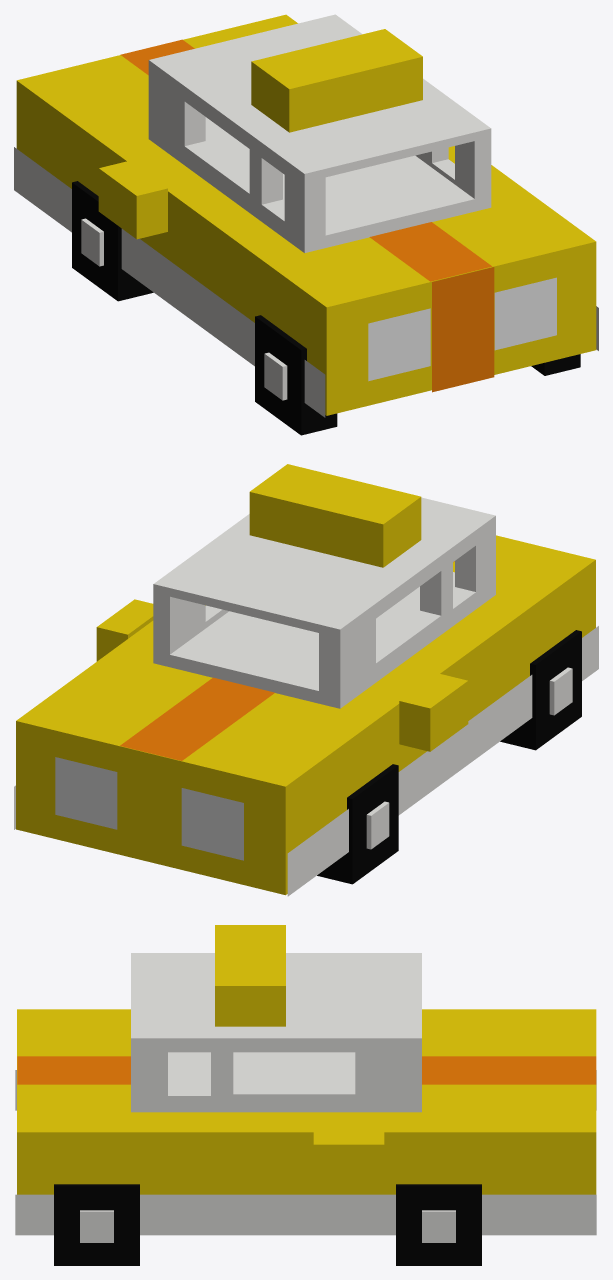
The model's file is SM_taxi.fbx.
3 views of the same model, one above another, from view 1: azimuth 30°, elevation 25°; view 2: azimuth 150°, elevation 25°; view 3: azimuth 270°, elevation 25° (orthographic). The views are drawn at different scales.
Visible parts, largest first — view 1: Cube, Cube.001, Cube.006, Plane.002, Plane.006, Plane.005, Cube.003, Cube.008, Cube.011, Plane.010, Plane.009, Cube.005 (+2 smaller); view 2: Cube, Cube.001, Cube.006, Plane.002, Plane.005, Cube.011, Cube.003, Cube.008, Plane.007, Plane.008, Cube.007, Cube.005 (+1 smaller); view 3: Cube, Cube.001, Plane.001, Plane.005, Cube.006, Cube.002, Cube.009, Cube.007, Cube.005, Cube.010.
Part boxes in pixels (x1=…): Cube: x1=16, y1=14, x2=596, y2=415; Cube.001: x1=148, y1=14, x2=491, y2=252; Cube.006: x1=251, y1=29, x2=422, y2=132; Plane.002: x1=14, y1=147, x2=325, y2=417; Plane.006: x1=432, y1=267, x2=494, y2=392; Plane.005: x1=120, y1=39, x2=492, y2=281; Cube.003: x1=255, y1=315, x2=337, y2=435; Cube.008: x1=98, y1=160, x2=167, y2=239; Cube.011: x1=72, y1=181, x2=153, y2=301; Plane.010: x1=368, y1=308, x2=430, y2=381; Plane.009: x1=494, y1=277, x2=556, y2=350; Cube.005: x1=264, y1=352, x2=287, y2=400; Cube: x1=16, y1=535, x2=595, y2=895; Cube.001: x1=153, y1=497, x2=495, y2=708; Cube.006: x1=249, y1=464, x2=421, y2=567; Plane.002: x1=287, y1=626, x2=598, y2=896; Plane.005: x1=120, y1=561, x2=454, y2=760; Cube.011: x1=317, y1=764, x2=398, y2=884; Cube.003: x1=500, y1=630, x2=581, y2=750; Cube.008: x1=399, y1=673, x2=468, y2=751; Plane.007: x1=55, y1=757, x2=117, y2=829; Plane.008: x1=181, y1=788, x2=243, y2=860; Cube.007: x1=96, y1=599, x2=153, y2=661; Cube.005: x1=549, y1=667, x2=572, y2=715; Cube: x1=17, y1=1009, x2=596, y2=1194; Cube.001: x1=131, y1=953, x2=421, y2=1112; Plane.001: x1=15, y1=1194, x2=596, y2=1235; Plane.005: x1=17, y1=1056, x2=596, y2=1084; Cube.006: x1=215, y1=925, x2=285, y2=1026; Cube.002: x1=54, y1=1184, x2=139, y2=1265; Cube.009: x1=396, y1=1184, x2=481, y2=1265; Cube.007: x1=313, y1=1130, x2=384, y2=1184; Cube.005: x1=80, y1=1210, x2=113, y2=1242; Cube.010: x1=422, y1=1210, x2=455, y2=1242.
Bounding box in the file's own units: 124 × 94.29 × 202.
